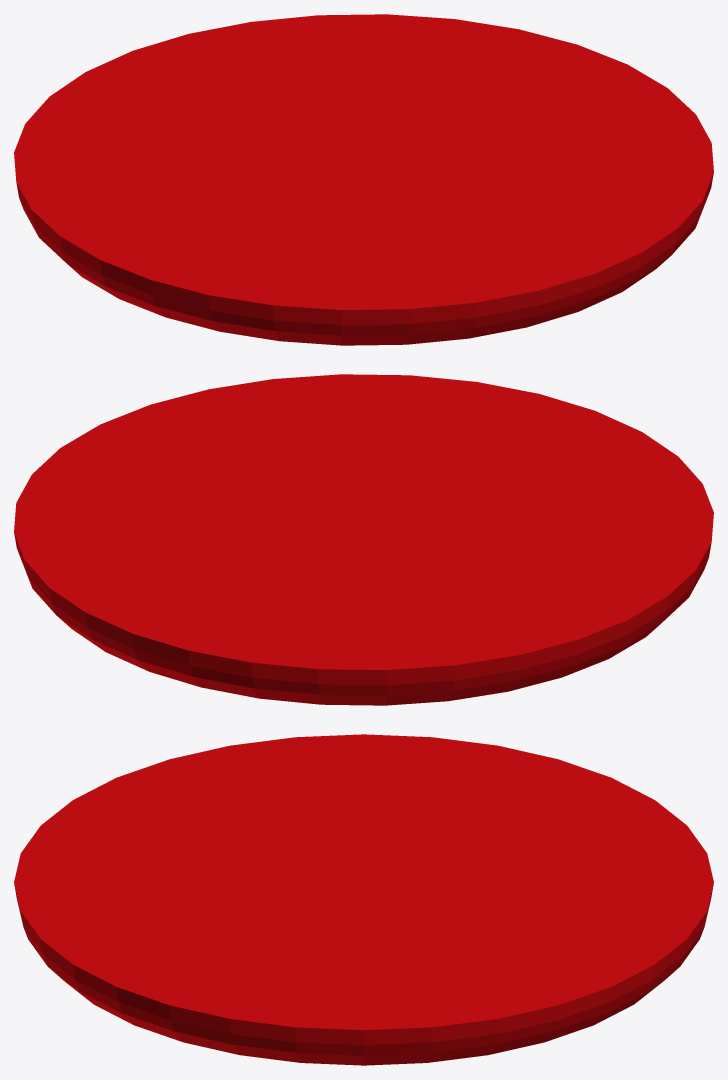
Rendered from Bell.fbx.
3 renders of one model, top to bottom at view 1: azimuth 30°, elevation 25°; view 2: azimuth 150°, elevation 25°; view 3: azimuth 270°, elevation 25°, orthographic.
Parts seen in each view (by area): view 1: 球; view 2: 球; view 3: 球.
Part boxes in pixels (<box>): 球: <box>14,14,713,345</box>; 球: <box>14,374,713,705</box>; 球: <box>14,734,713,1065</box>.
Size of the model in its own units: 200 by 26.97 by 200.
